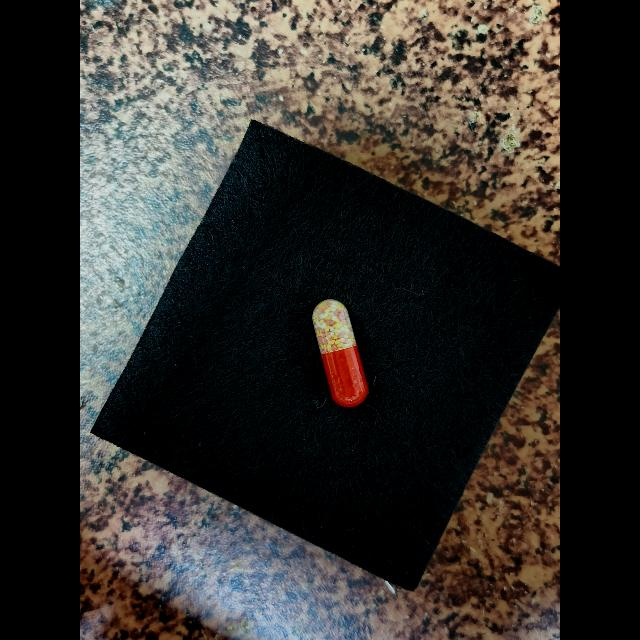Intact Capsule: (312, 299, 368, 407)
